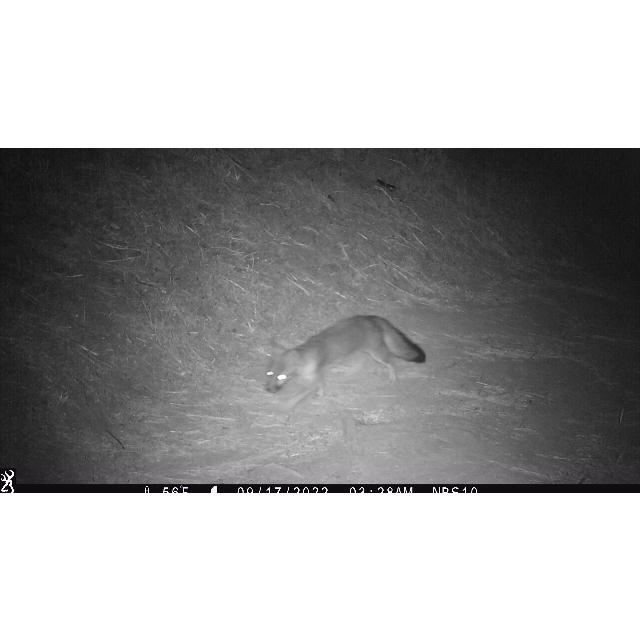animals: (262, 313, 426, 403)
